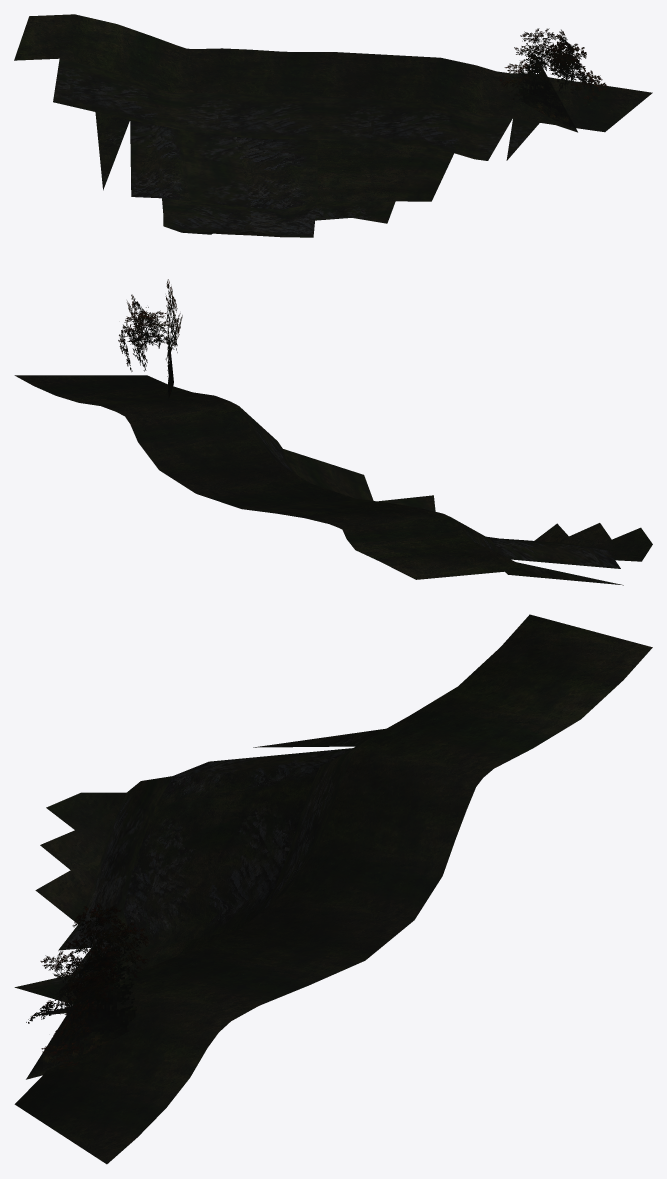
The model's file is cell_-1_-10.gltf.
3 views of the same model, one above another, from view 1: azimuth 30°, elevation 25°; view 2: azimuth 150°, elevation 25°; view 3: azimuth 270°, elevation 25° (orthographic). The views are drawn at different scales.
Visible parts, largest first — view 1: cell_-1_-10; view 2: cell_-1_-10; view 3: cell_-1_-10.
Boxes of the visible parts, left/top/right/bottom form: cell_-1_-10: left=14, top=14, right=652, bottom=237; cell_-1_-10: left=14, top=279, right=652, bottom=585; cell_-1_-10: left=14, top=614, right=652, bottom=1164.
Bounding box in the file's own units: 199 × 55.24 × 124.
Materials: 6 (6 with a texture image).
